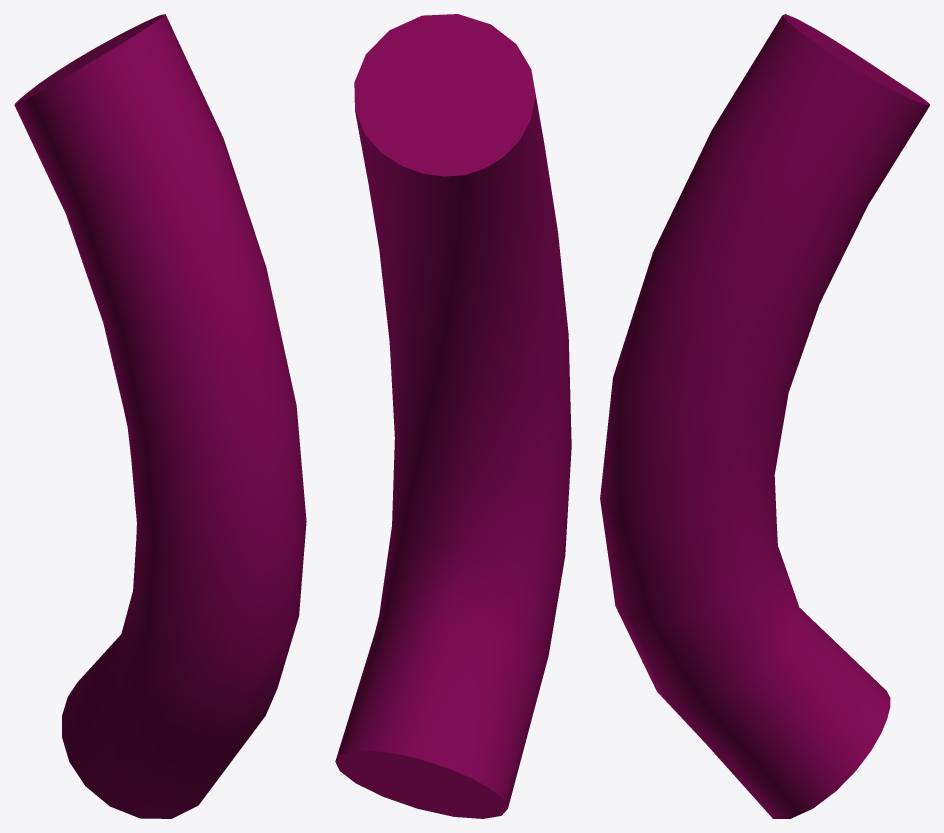
The model's file is lacA.glb.
The picture shows the model from 3 angles, left to right: view 1: azimuth 30°, elevation 25°; view 2: azimuth 150°, elevation 25°; view 3: azimuth 270°, elevation 25°; orthographic projection. The views are drawn at different scales.
Parts seen in each view (by area): view 1: lacA; view 2: lacA; view 3: lacA.
Part boxes in pixels (left/top/right/bottom): lacA: left=14, top=14, right=306, bottom=818; lacA: left=335, top=14, right=571, bottom=818; lacA: left=600, top=14, right=929, bottom=818.
Bounding box in the file's own units: 0.117 × 0.4553 × 0.1754.
